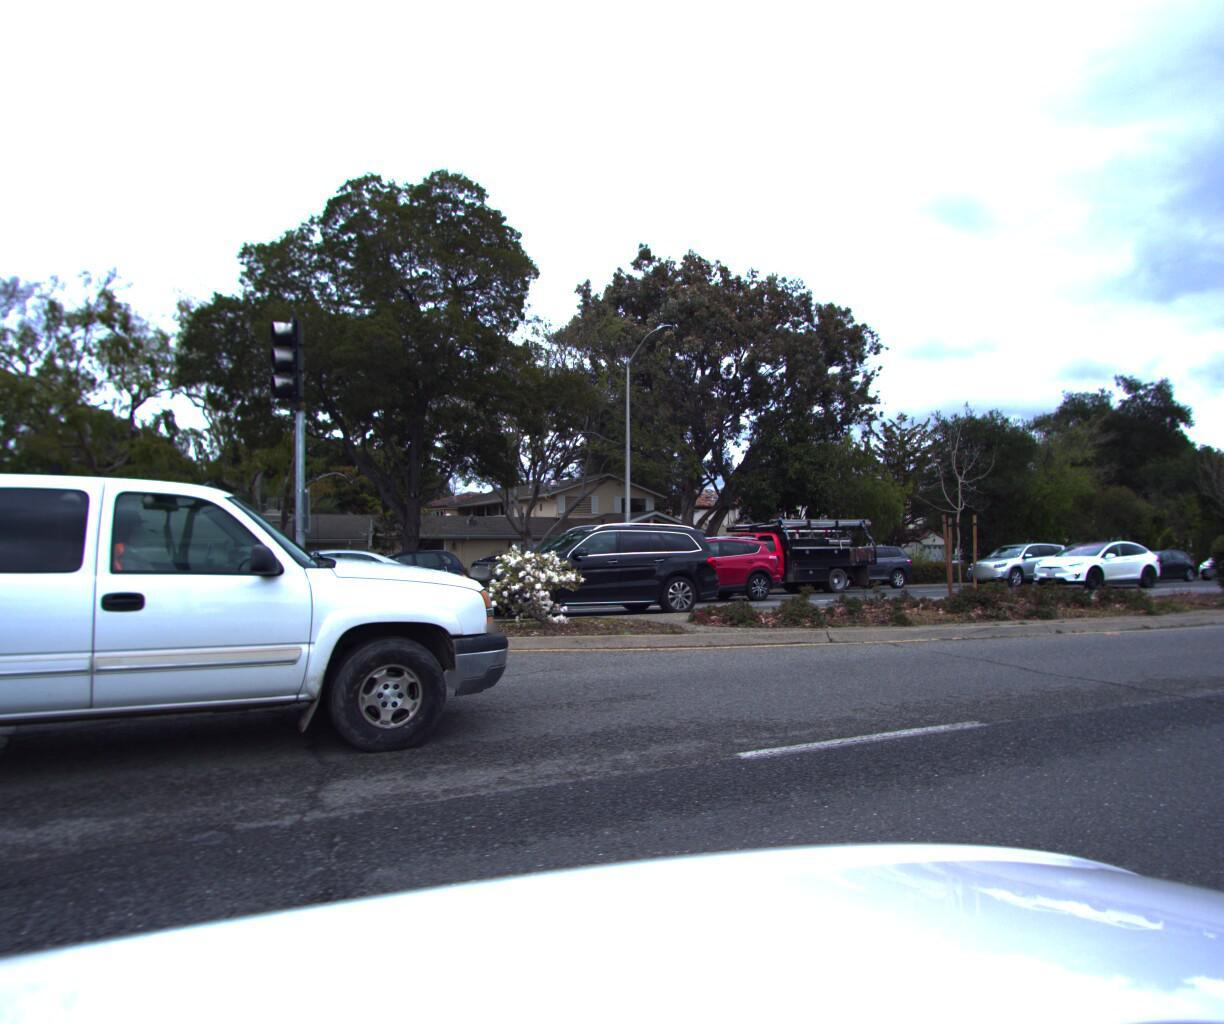car: (0, 405, 548, 889), (452, 525, 719, 627), (657, 515, 884, 605), (210, 552, 426, 622), (0, 548, 141, 644), (648, 539, 824, 609), (318, 555, 474, 611), (1024, 549, 1160, 599), (794, 549, 918, 599), (954, 554, 1075, 595), (1101, 557, 1205, 593)
